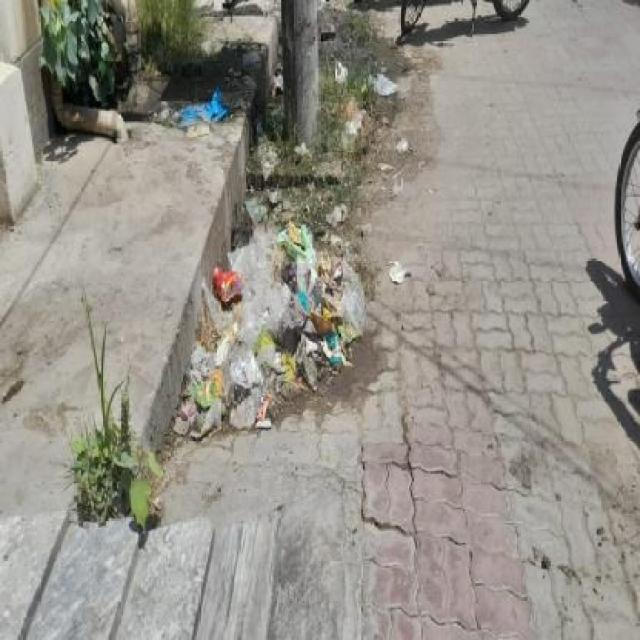garbage: (171, 76, 426, 416)
